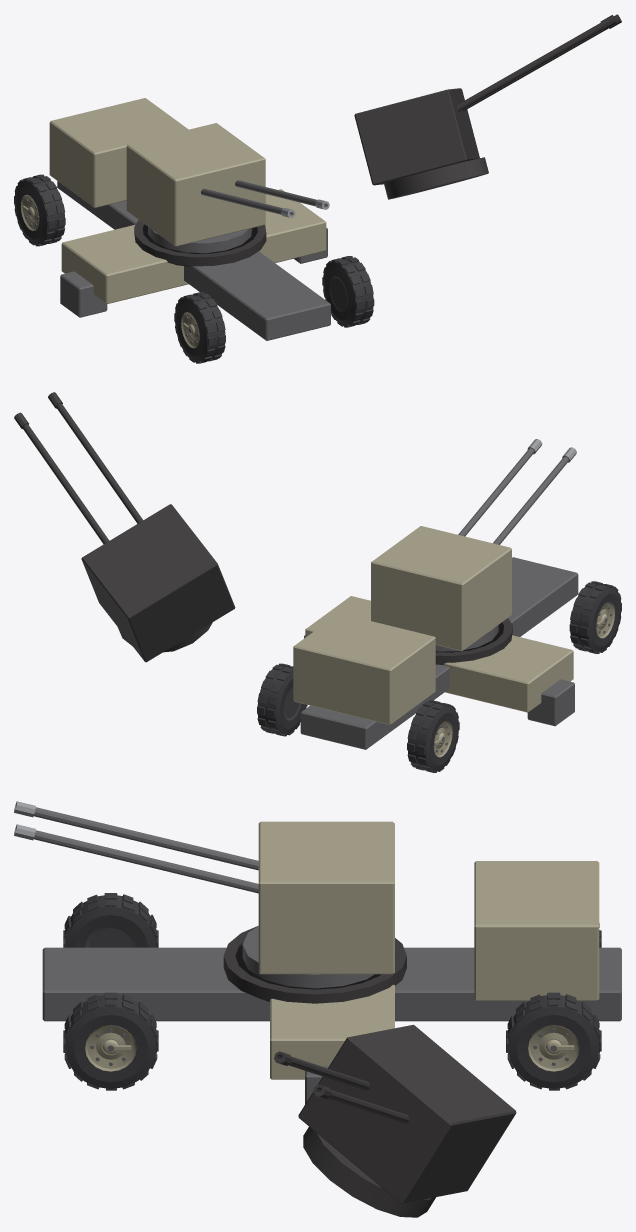
Rendered from aaVehicle__zu_23_2_saqr_358.glb.
3 views of the same model, one above another, from view 1: azimuth 30°, elevation 25°; view 2: azimuth 150°, elevation 25°; view 3: azimuth 270°, elevation 25° (orthographic). The views are drawn at different scales.
Parts seen in each view (by area): view 1: Hull_Mesh, Wreck, Turret_Mesh, Wheel_L0_Mesh, Wheel_L1_Mesh, Wheel_R1_Mesh, Gun_Mesh; view 2: Hull_Mesh, Wreck, Turret_Mesh, Wheel_L0_Mesh, Wheel_L1_Mesh, Wheel_R0_Mesh, Gun_Mesh; view 3: Hull_Mesh, Wreck, Turret_Mesh, Wheel_R0_Mesh, Wheel_R1_Mesh, Gun_Mesh, Wheel_L1_Mesh.
Part boxes in pixels (box(x1,y1,x2,y2)): Hull_Mesh: box(49, 98, 330, 340); Wreck: box(45, 14, 621, 362); Turret_Mesh: box(126, 123, 265, 252); Wheel_L0_Mesh: box(14, 174, 65, 246); Wheel_L1_Mesh: box(174, 292, 225, 363); Wheel_R1_Mesh: box(322, 256, 374, 327); Gun_Mesh: box(201, 180, 329, 218); Hull_Mesh: box(293, 557, 578, 749); Wreck: box(14, 392, 596, 772); Turret_Mesh: box(371, 526, 511, 651); Wheel_L0_Mesh: box(407, 700, 459, 772); Wheel_L1_Mesh: box(569, 581, 621, 653); Wheel_R0_Mesh: box(257, 663, 307, 736); Gun_Mesh: box(458, 439, 576, 544); Hull_Mesh: box(42, 861, 621, 1104); Wreck: box(223, 926, 516, 1217); Turret_Mesh: box(242, 821, 394, 988); Wheel_R0_Mesh: box(506, 992, 601, 1090); Wheel_R1_Mesh: box(63, 992, 158, 1090); Gun_Mesh: box(14, 801, 258, 893); Wheel_L1_Mesh: box(63, 893, 158, 947).
Size of what is drawn, in the model's own units: 7.69 by 2.46 by 5.35.
